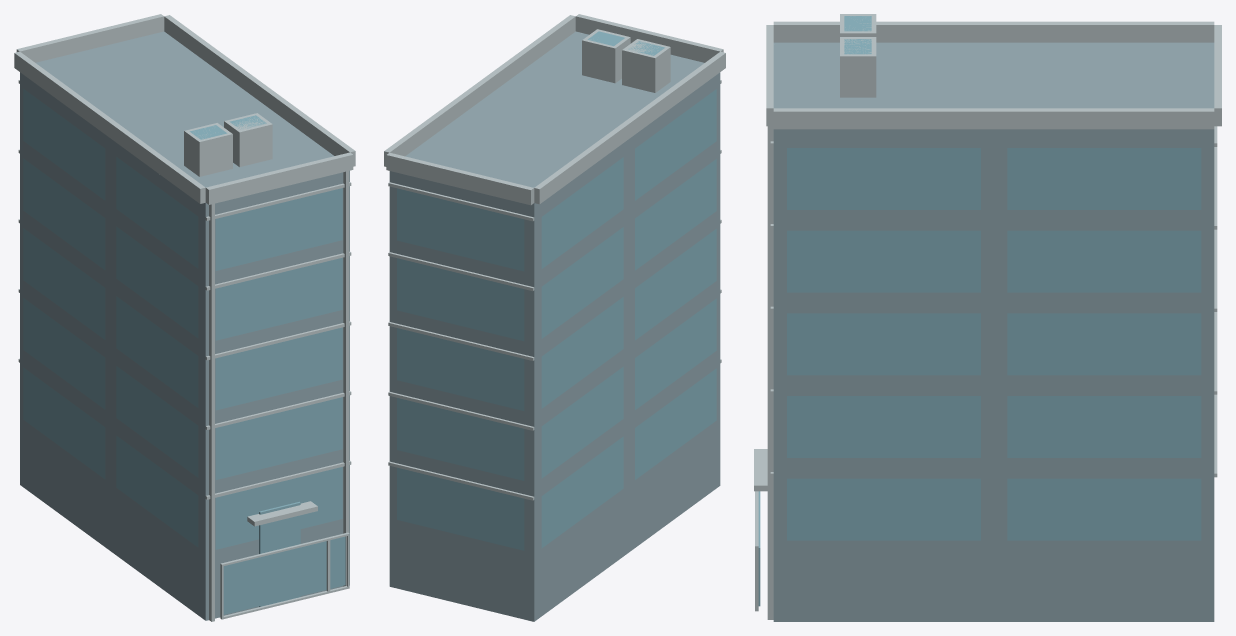
Rendered from commercial_1x2_b.glb.
3 views of the same model, side by side, from view 1: azimuth 30°, elevation 25°; view 2: azimuth 150°, elevation 25°; view 3: azimuth 270°, elevation 25° (orthographic). The views are drawn at different scales.
Visible parts, largest first — view 1: commercial_1x2_b_0; view 2: commercial_1x2_b_0; view 3: commercial_1x2_b_0.
Boxes of the visible parts, x1,y1,x2,y2 form: commercial_1x2_b_0: (14, 14, 355, 621); commercial_1x2_b_0: (384, 14, 725, 621); commercial_1x2_b_0: (754, 14, 1221, 621).
Bounding box in the file's own units: 7 × 19.5 × 15.4.
